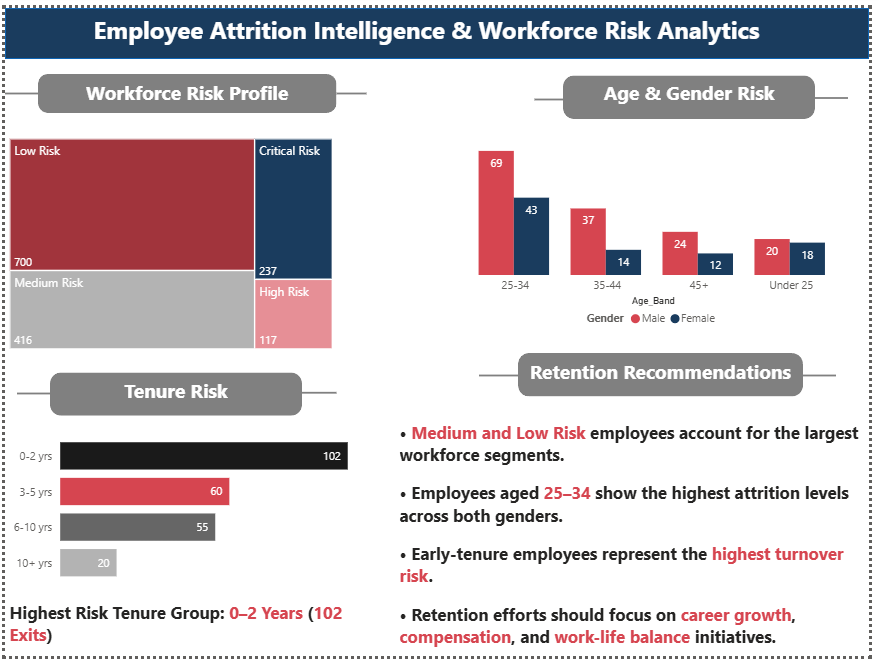

Layout of this report page (visuals, bound fields, positions):
{"tool":"powerbi","page":{"name":"Workforce Risk & Retention","canvas":[960,720],"ordinal":2},"visuals":[{"type":"shape","box":[0,0,960,56.7],"z":0},{"type":"textbox","box":[0,0,936.7,56.7],"z":1000},{"type":"shape","box":[36.7,73.3,331.7,43.3],"z":3000},{"type":"textbox","box":[36.7,73.3,331.7,43.3],"z":4000},{"type":"shape","box":[368.3,50,33.3,90],"z":5000},{"type":"shape","box":[0,50,36.7,90],"z":6000},{"type":"shape","box":[620,75,280,48.3],"z":8000},{"type":"textbox","box":[620,73.3,280,50],"z":9000},{"type":"shape","box":[588.3,56.7,36.7,90],"z":10000},{"type":"shape","box":[900,55,36.7,90],"z":11000},{"type":"shape","box":[50,405,280,48],"z":12000},{"type":"shape","box":[570,383.3,316.7,48.3],"z":13000},{"type":"shape","box":[886.7,363.3,36.7,90],"z":14000},{"type":"shape","box":[526.7,363.3,43.3,90],"z":15000},{"type":"shape","box":[330,378.3,38.3,98.3],"z":16000},{"type":"shape","box":[13.3,383.3,36.7,90],"z":17000},{"type":"textbox","box":[433.3,453.3,526.7,266.7],"z":22000},{"type":"treemap","fields":{"Group":["HR_Data.Risk_Category"],"Values":["HR_Data.Total Employees"]},"box":[0,140,368.3,243.3],"z":22001},{"type":"clusteredColumnChart","fields":{"Category":["HR_Data.Age_Band"],"Series":["HR_Data.Gender"],"Y":["HR_Data.Attrition Count"]},"box":[480,123.3,480,240],"z":22002},{"type":"clusteredBarChart","fields":{"Category":["HR_Data.Tenure_Band"],"Y":["HR_Data.Attrition Count"]},"box":[0,453.3,415,200],"z":22003},{"type":"textbox","box":[50,405,280,48.3],"z":22004},{"type":"textbox","box":[570,383.3,316.7,48.3],"z":22005},{"type":"textbox","box":[0,653.3,400,66.7],"z":22006}]}

Visuals, with their boxes in screenshot pixels (x1, y1, x2, y2), scaled from the page's 960x720 canvas onto the 879x660 screenshot:
shape: detection(0, 0, 878, 52)
textbox: detection(0, 0, 858, 52)
shape: detection(34, 67, 337, 107)
textbox: detection(34, 67, 337, 107)
shape: detection(337, 46, 368, 128)
shape: detection(0, 46, 34, 128)
shape: detection(568, 69, 824, 113)
textbox: detection(568, 67, 824, 113)
shape: detection(539, 52, 572, 134)
shape: detection(824, 50, 858, 133)
shape: detection(46, 371, 302, 415)
shape: detection(522, 351, 812, 396)
shape: detection(812, 333, 845, 416)
shape: detection(482, 333, 522, 416)
shape: detection(302, 347, 337, 437)
shape: detection(12, 351, 46, 434)
textbox: detection(397, 416, 878, 659)
treemap - HR_Data.Risk_Category x HR_Data.Total Employees: detection(0, 128, 337, 351)
clusteredColumnChart - HR_Data.Age_Band x HR_Data.Gender: detection(440, 113, 878, 333)
clusteredBarChart - HR_Data.Tenure_Band x HR_Data.Attrition Count: detection(0, 416, 380, 599)
textbox: detection(46, 371, 302, 416)
textbox: detection(522, 351, 812, 396)
textbox: detection(0, 599, 366, 659)
